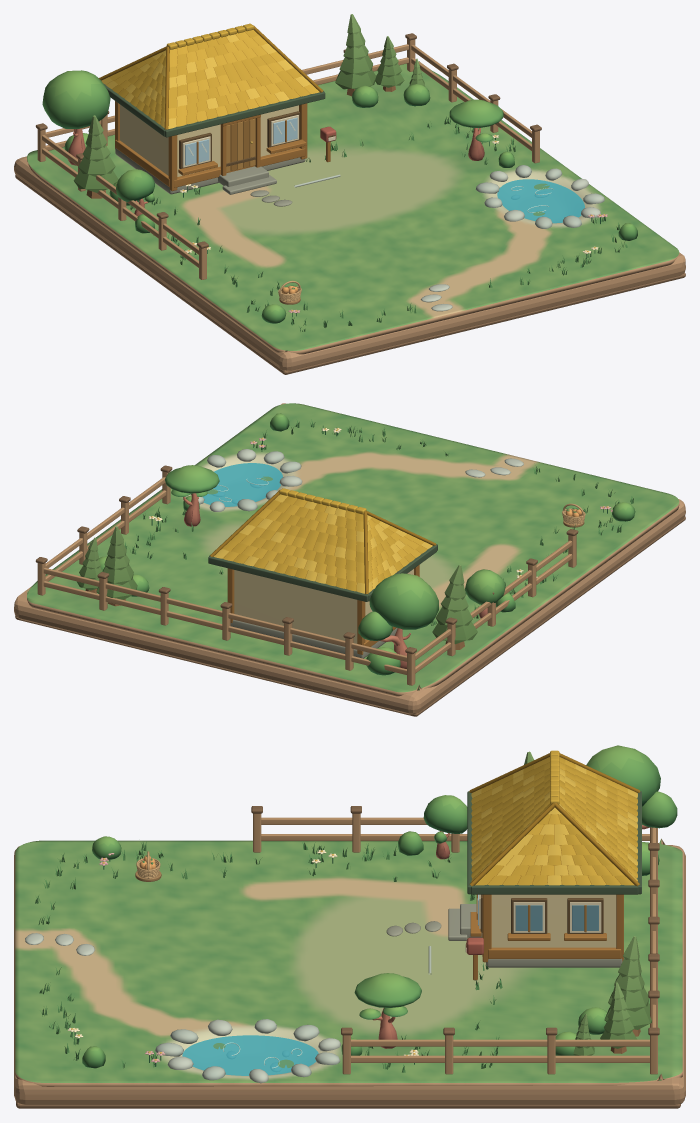
Rendered from garden-uncompressed.glb.
3 renders of one model, top to bottom at view 1: azimuth 30°, elevation 25°; view 2: azimuth 150°, elevation 25°; view 3: azimuth 270°, elevation 25°, orthographic. The views are drawn at different scales.
Visible parts, largest first — view 1: NAV_Ground, Cottage, Planting, Terrain_Base, Fence_Path, Pond_Water, Pond_Details, Flowers_Grass; view 2: NAV_Ground, Cottage, Planting, Terrain_Base, Fence_Path, Pond_Water, Pond_Details, Flowers_Grass; view 3: NAV_Ground, Cottage, Terrain_Base, Planting, Fence_Path, Pond_Water, Pond_Details, Flowers_Grass, Basket.
Part boxes in pixels (x1,y1,x2,y2): NAV_Ground: (27, 61, 679, 354); Cottage: (99, 23, 325, 194); Planting: (42, 14, 637, 323); Terrain_Base: (14, 62, 685, 374); Fence_Path: (35, 33, 541, 279); Pond_Water: (497, 179, 584, 223); Pond_Details: (475, 165, 604, 228); Flowers_Grass: (130, 116, 627, 331); NAV_Ground: (27, 403, 679, 696); Cottage: (208, 488, 437, 658); Planting: (77, 413, 635, 675); Terrain_Base: (14, 403, 685, 716); Fence_Path: (35, 465, 578, 685); Pond_Water: (203, 463, 282, 506); Pond_Details: (198, 449, 302, 511); Flowers_Grass: (125, 419, 633, 625); NAV_Ground: (15, 838, 682, 1086); Cottage: (448, 750, 641, 967); Terrain_Base: (14, 845, 685, 1108); Planting: (82, 745, 677, 1068); Fence_Path: (251, 806, 659, 1074); Pond_Water: (182, 1035, 318, 1075); Pond_Details: (155, 1019, 340, 1083); Flowers_Grass: (35, 841, 502, 1072); Basket: (135, 851, 161, 881).
Bounding box in the file's own units: 9.48 × 3.26 × 11.06.
